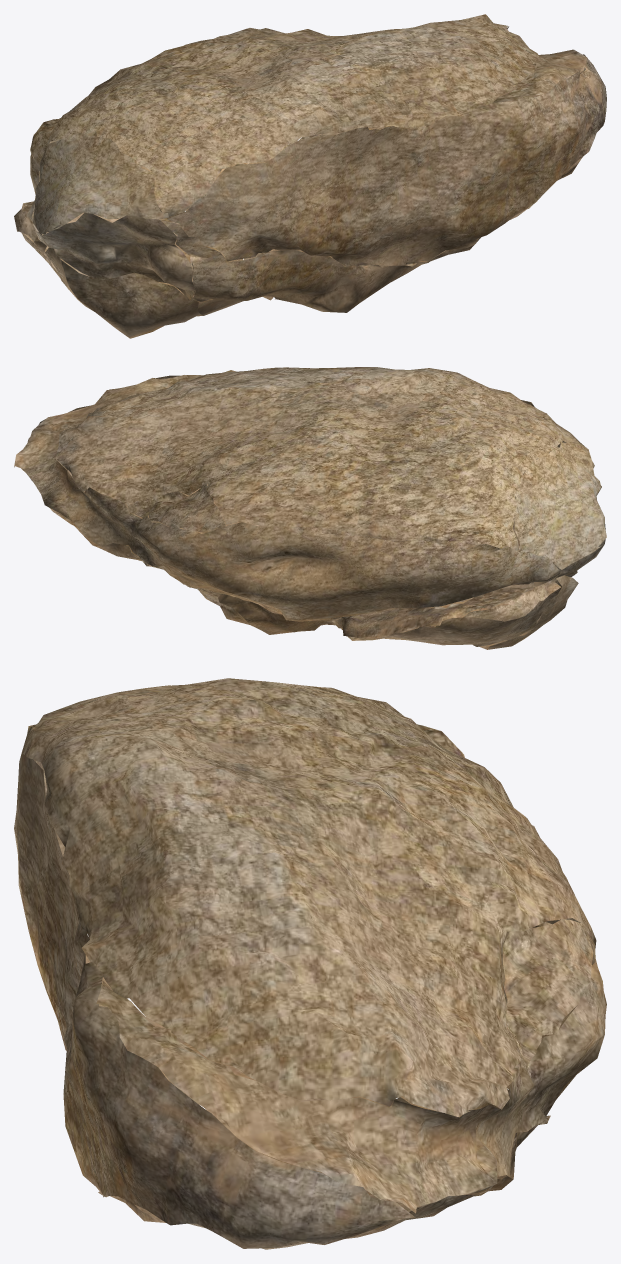
File: kaya_kucuk.gltf
The picture shows the model from 3 angles, top to bottom: view 1: azimuth 30°, elevation 25°; view 2: azimuth 150°, elevation 25°; view 3: azimuth 270°, elevation 25°; orthographic projection. The views are drawn at different scales.
Parts seen in each view (by area): view 1: kaya_kucuk; view 2: kaya_kucuk; view 3: kaya_kucuk.
Part boxes in pixels (left/top/right/bottom): kaya_kucuk: left=14, top=14, right=606, bottom=338; kaya_kucuk: left=14, top=367, right=606, bottom=649; kaya_kucuk: left=14, top=678, right=606, bottom=1249.
Size of what is drawn, in the model's own units: 1.36 by 0.5323 by 0.7409.
1 material, 1 textured.
